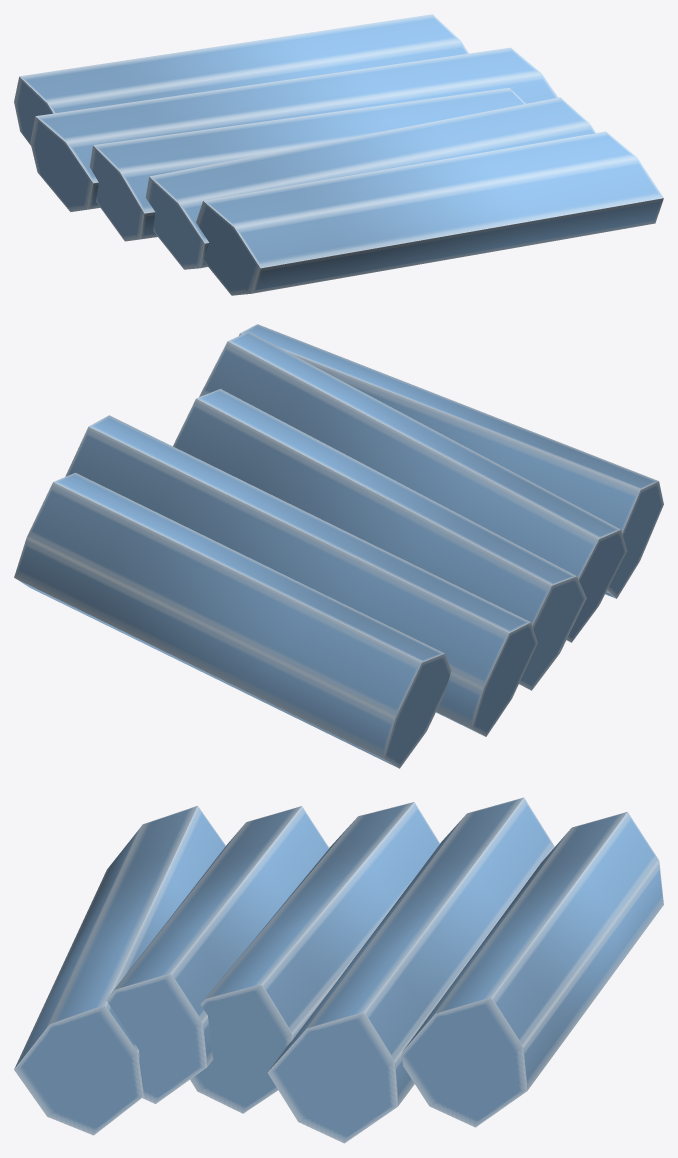
The model's file is floor_crystal_pipes_01.fbx.
3 renders of one model, top to bottom at view 1: azimuth 30°, elevation 25°; view 2: azimuth 150°, elevation 25°; view 3: azimuth 270°, elevation 25°, orthographic. The views are drawn at different scales.
Visible parts, largest first — view 1: floor_crystal_pipes_01; view 2: floor_crystal_pipes_01; view 3: floor_crystal_pipes_01.
Boxes of the visible parts, left/top/right/bottom form: floor_crystal_pipes_01: left=14, top=14, right=663, bottom=295; floor_crystal_pipes_01: left=14, top=324, right=663, bottom=768; floor_crystal_pipes_01: left=14, top=797, right=663, bottom=1143.
Bounding box in the file's own units: 1.54 × 0.4463 × 1.67.
Materials: 1 (1 with a texture image).
